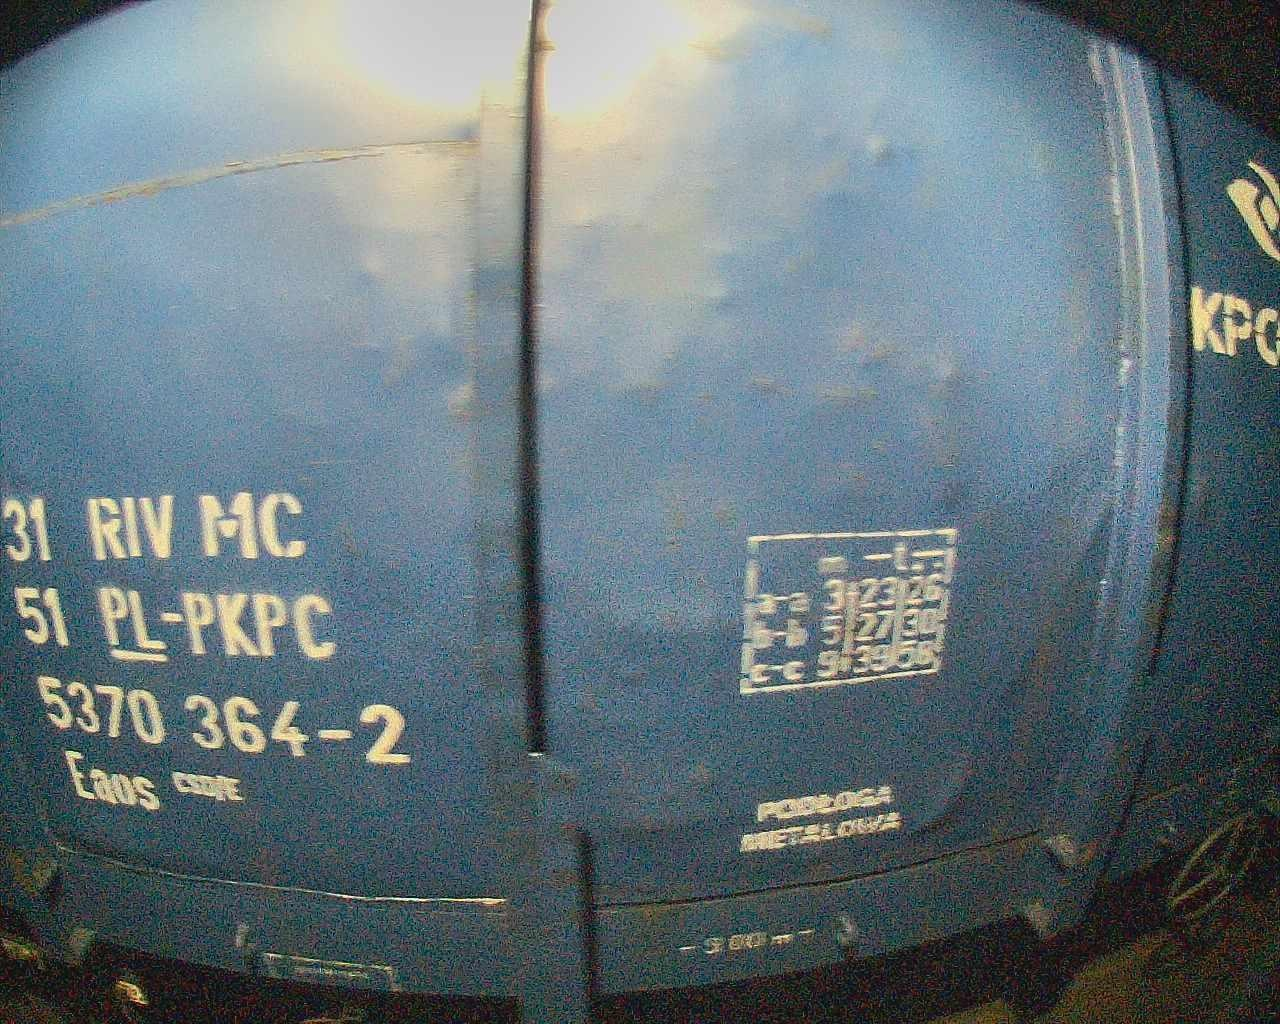UIC: (1, 489, 416, 819)
